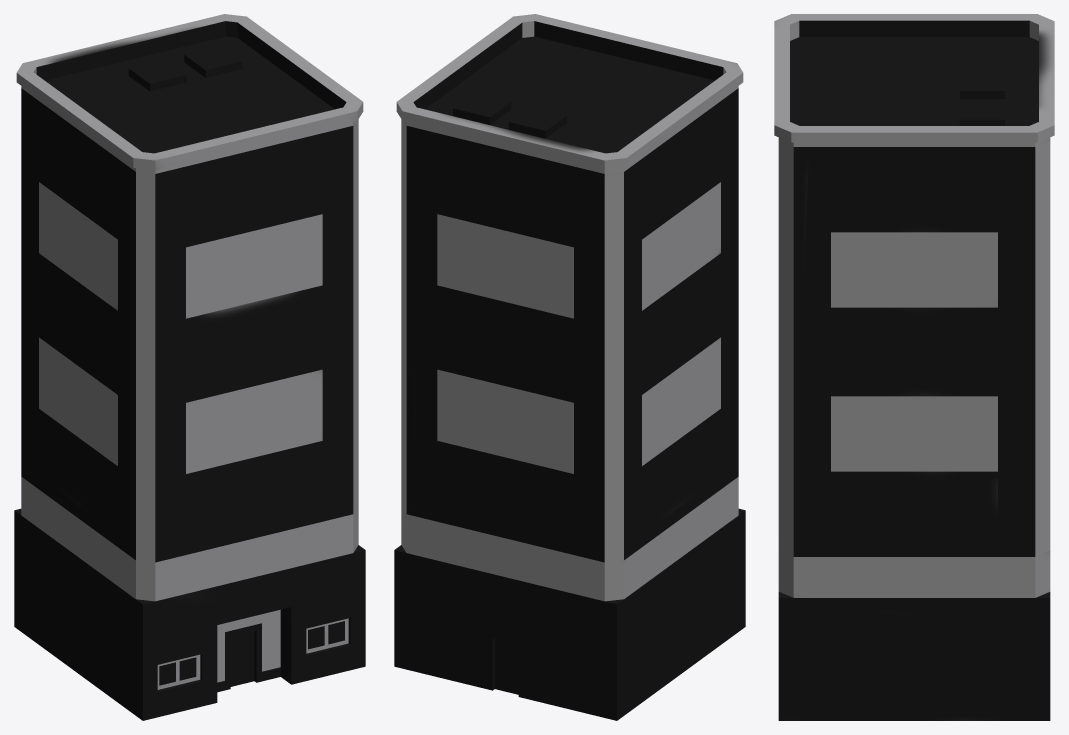
File: lowBill.gltf
3 renders of one model, left to right at view 1: azimuth 30°, elevation 25°; view 2: azimuth 150°, elevation 25°; view 3: azimuth 270°, elevation 25°, orthographic. The views are drawn at different scales.
Parts seen in each view (by area): view 1: skyscraperA; view 2: skyscraperA; view 3: skyscraperA.
Boxes of the visible parts, <box> form: skyscraperA: <box>14,14,365,720</box>; skyscraperA: <box>394,14,745,720</box>; skyscraperA: <box>774,14,1054,720</box>.
Bounding box in the file's own units: 1.24 × 2.88 × 1.24.
1 material, 1 textured.
